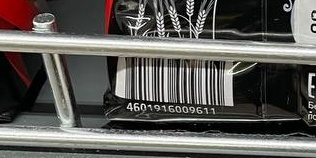1d: (124, 55, 225, 103)
